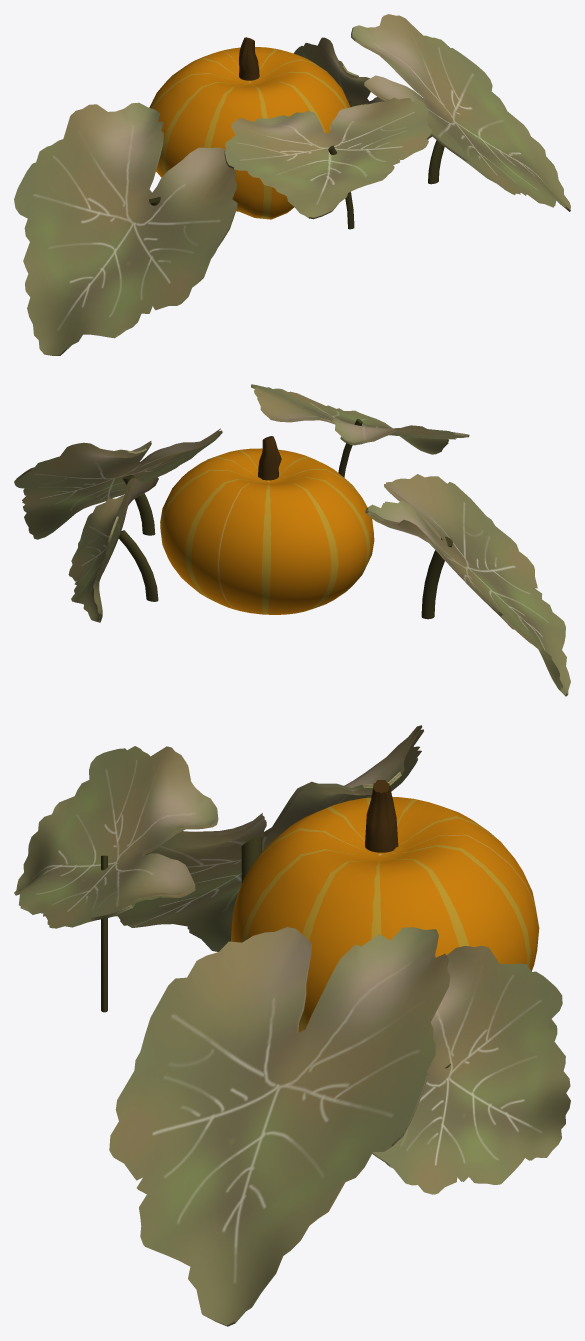
File: 南瓜往生.FBX
The picture shows the model from 3 angles, top to bottom: view 1: azimuth 30°, elevation 25°; view 2: azimuth 150°, elevation 25°; view 3: azimuth 270°, elevation 25°; orthographic projection. The views are drawn at different scales.
Visible parts, largest first — view 1: Box002, Box001, Sphere001, Box003, Box004, Cone001, Cylinder004; view 2: Sphere001, Box002, Box001, Box003, Box004, Cylinder002, Cylinder001, Cone001, Cylinder004; view 3: Box001, Sphere001, Box004, Box003, Box002, Cone001, Cylinder003.
Part boxes in pixels (bbox=[...]): Box002: bbox=[14, 102, 237, 355]; Box001: bbox=[351, 14, 570, 211]; Sphere001: bbox=[149, 47, 349, 219]; Box003: bbox=[224, 97, 432, 219]; Box004: bbox=[293, 37, 431, 139]; Cone001: bbox=[239, 37, 259, 80]; Cylinder004: bbox=[428, 140, 444, 184]; Sphere001: bbox=[160, 448, 374, 614]; Box002: bbox=[365, 474, 570, 696]; Box001: bbox=[14, 428, 222, 539]; Box003: bbox=[251, 384, 469, 454]; Box004: bbox=[68, 476, 158, 622]; Cylinder002: bbox=[421, 536, 452, 619]; Cylinder001: bbox=[118, 530, 158, 601]; Cone001: bbox=[258, 436, 281, 480]; Cylinder004: bbox=[122, 475, 155, 535]; Box001: bbox=[109, 927, 450, 1326]; Sphere001: bbox=[230, 797, 539, 1032]; Box004: bbox=[372, 945, 570, 1194]; Box003: bbox=[14, 746, 218, 928]; Box002: bbox=[113, 725, 423, 951]; Cone001: bbox=[365, 780, 398, 852]; Cylinder003: bbox=[101, 855, 107, 1012].
Bounding box in the file's own units: 67.2 × 27.43 × 37.92.
4 materials, 2 textured.
